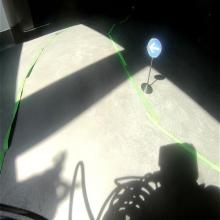left: (147, 38, 162, 58)
